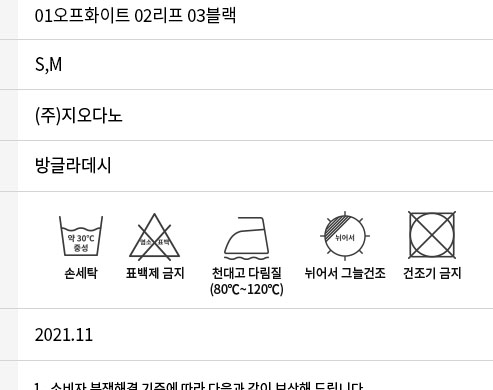KR_flat_dry_in_shade: (315, 209, 371, 263)
KR_hand_wash_30_neutral: (55, 209, 106, 261)
KR_no_chlorine_bleach: (124, 211, 183, 263)
KR_no_tumble_dry: (402, 206, 462, 264)
